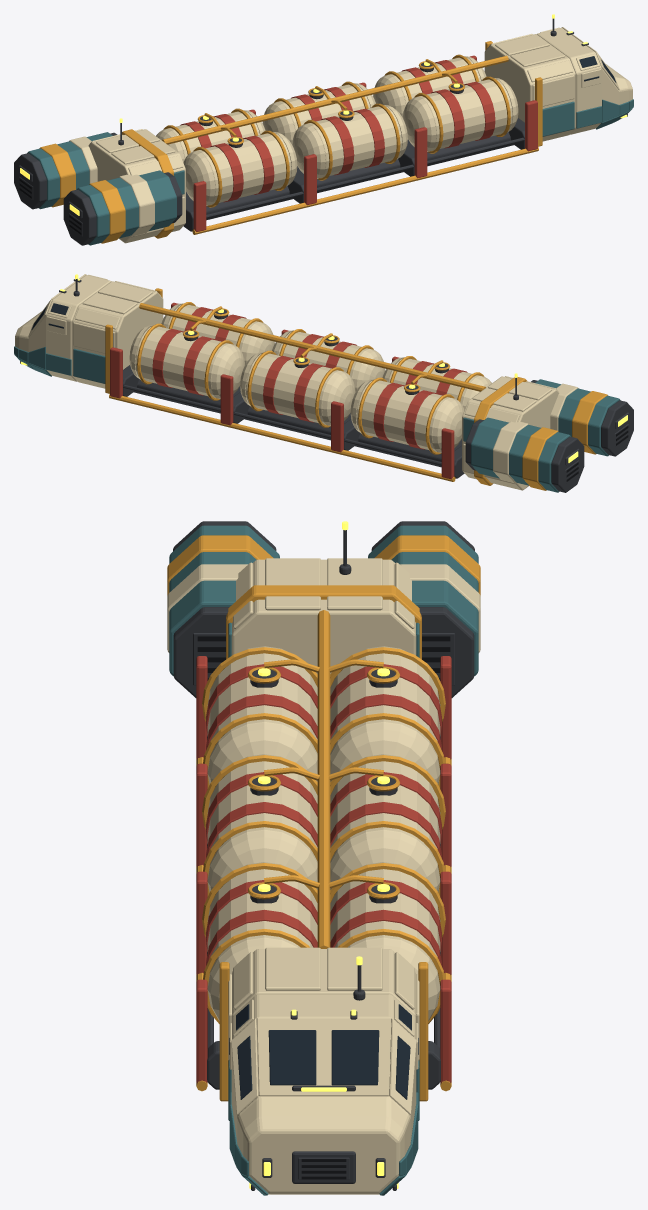
The model's file is tanker.glb.
3 renders of one model, top to bottom at view 1: azimuth 30°, elevation 25°; view 2: azimuth 150°, elevation 25°; view 3: azimuth 270°, elevation 25°, orthographic. The views are drawn at different scales.
Visible parts, largest first — view 1: cargo body, hull body, drive body; view 2: cargo body, hull body, drive body; view 3: hull body, cargo body, drive body.
Part boxes in pixels (x1,y1,x2,y2): cargo body: (156,54,518,207); hull body: (88,18,633,243); drive body: (14,132,182,245); cargo body: (129,302,491,454); hull body: (14,274,559,490); drive body: (465,379,633,492); hull body: (196,530,451,1195); cargo body: (202,610,445,1023); drive body: (167,521,480,697).
Bounding box in the file's own units: 18.49 × 3.32 × 4.42.
